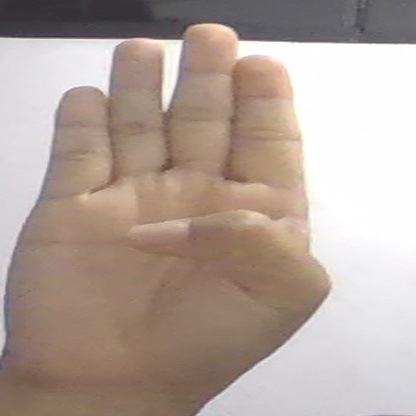B: (3, 21, 326, 407)
